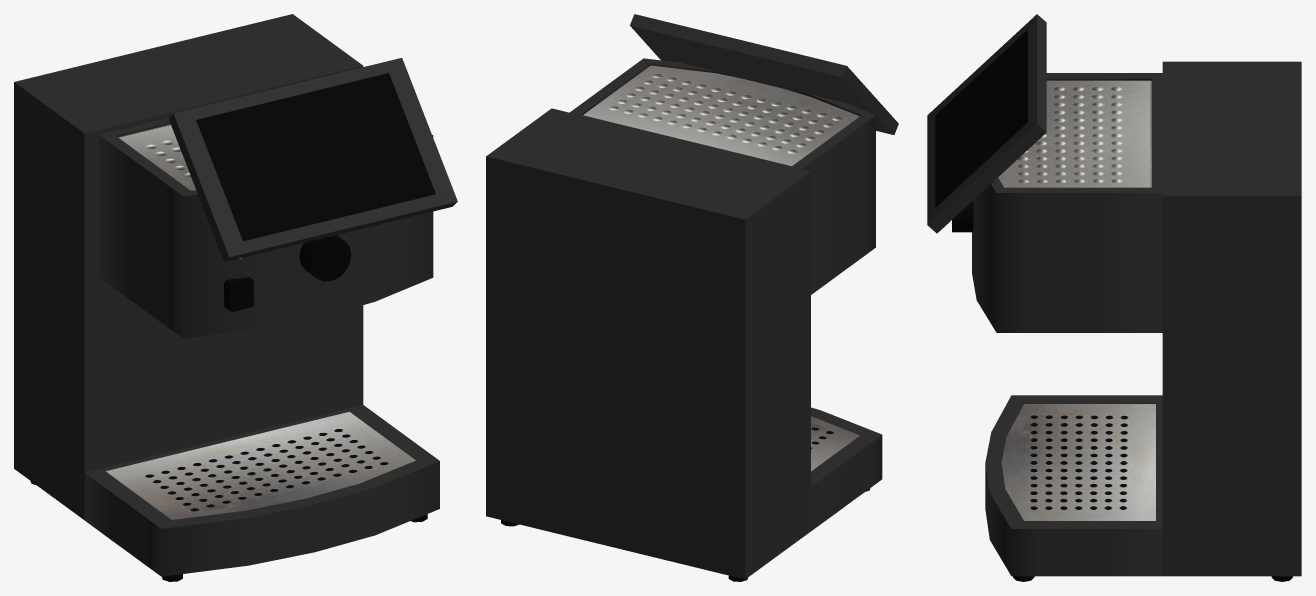
Rendered from main_module.glb.
The picture shows the model from 3 angles, left to right: view 1: azimuth 30°, elevation 25°; view 2: azimuth 150°, elevation 25°; view 3: azimuth 270°, elevation 25°; orthographic projection. The views are drawn at different scales.
Parts seen in each view (by area): view 1: percolateur; view 2: percolateur; view 3: percolateur.
Part boxes in pixels (x1,y1,x2,y2): percolateur: (14,14,457,581); percolateur: (486,14,898,581); percolateur: (927,14,1301,581).
Size of the model in its own units: 20.51 by 32.14 by 24.24.
Materials: 7 (2 with a texture image).
